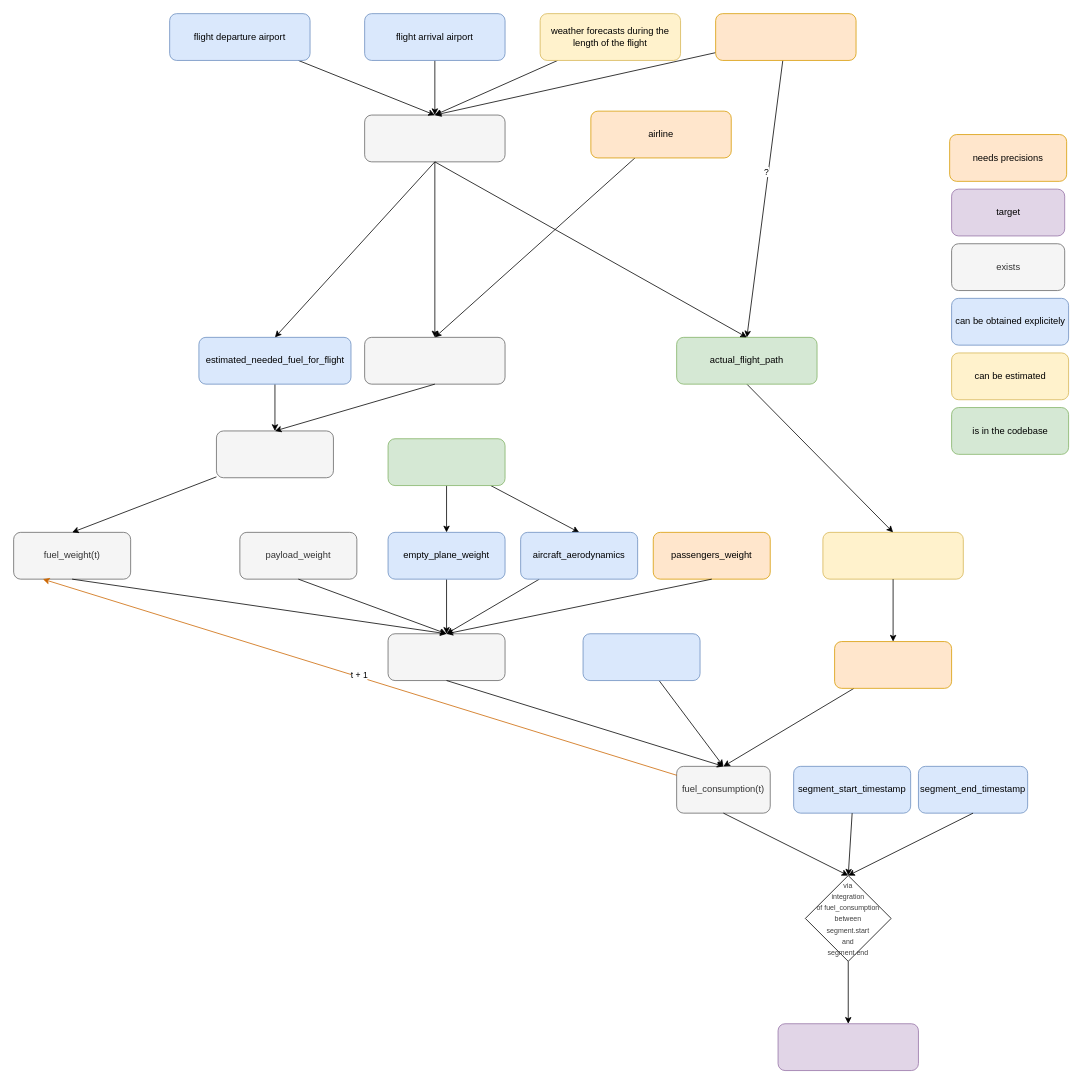
Image size: 1083x1084. Some labels were removed from this diagram. The centre of each missing label's shape, as x and y in pixels:
aircraft_type: (x=446, y=462)
Eurocontrol's regulations: (x=785, y=36)
fuel_at_flight_start: (x=274, y=454)
fuel_consumption(segment): (x=847, y=1047)
plane_acceleration(t): (x=641, y=657)
plane_location(t): (x=892, y=555)
plane_weight(t): (x=446, y=657)
planned flight path a few minutes before departure: (x=434, y=138)
safety_margin: (x=434, y=360)
weather_around_plane(t): (x=893, y=664)
